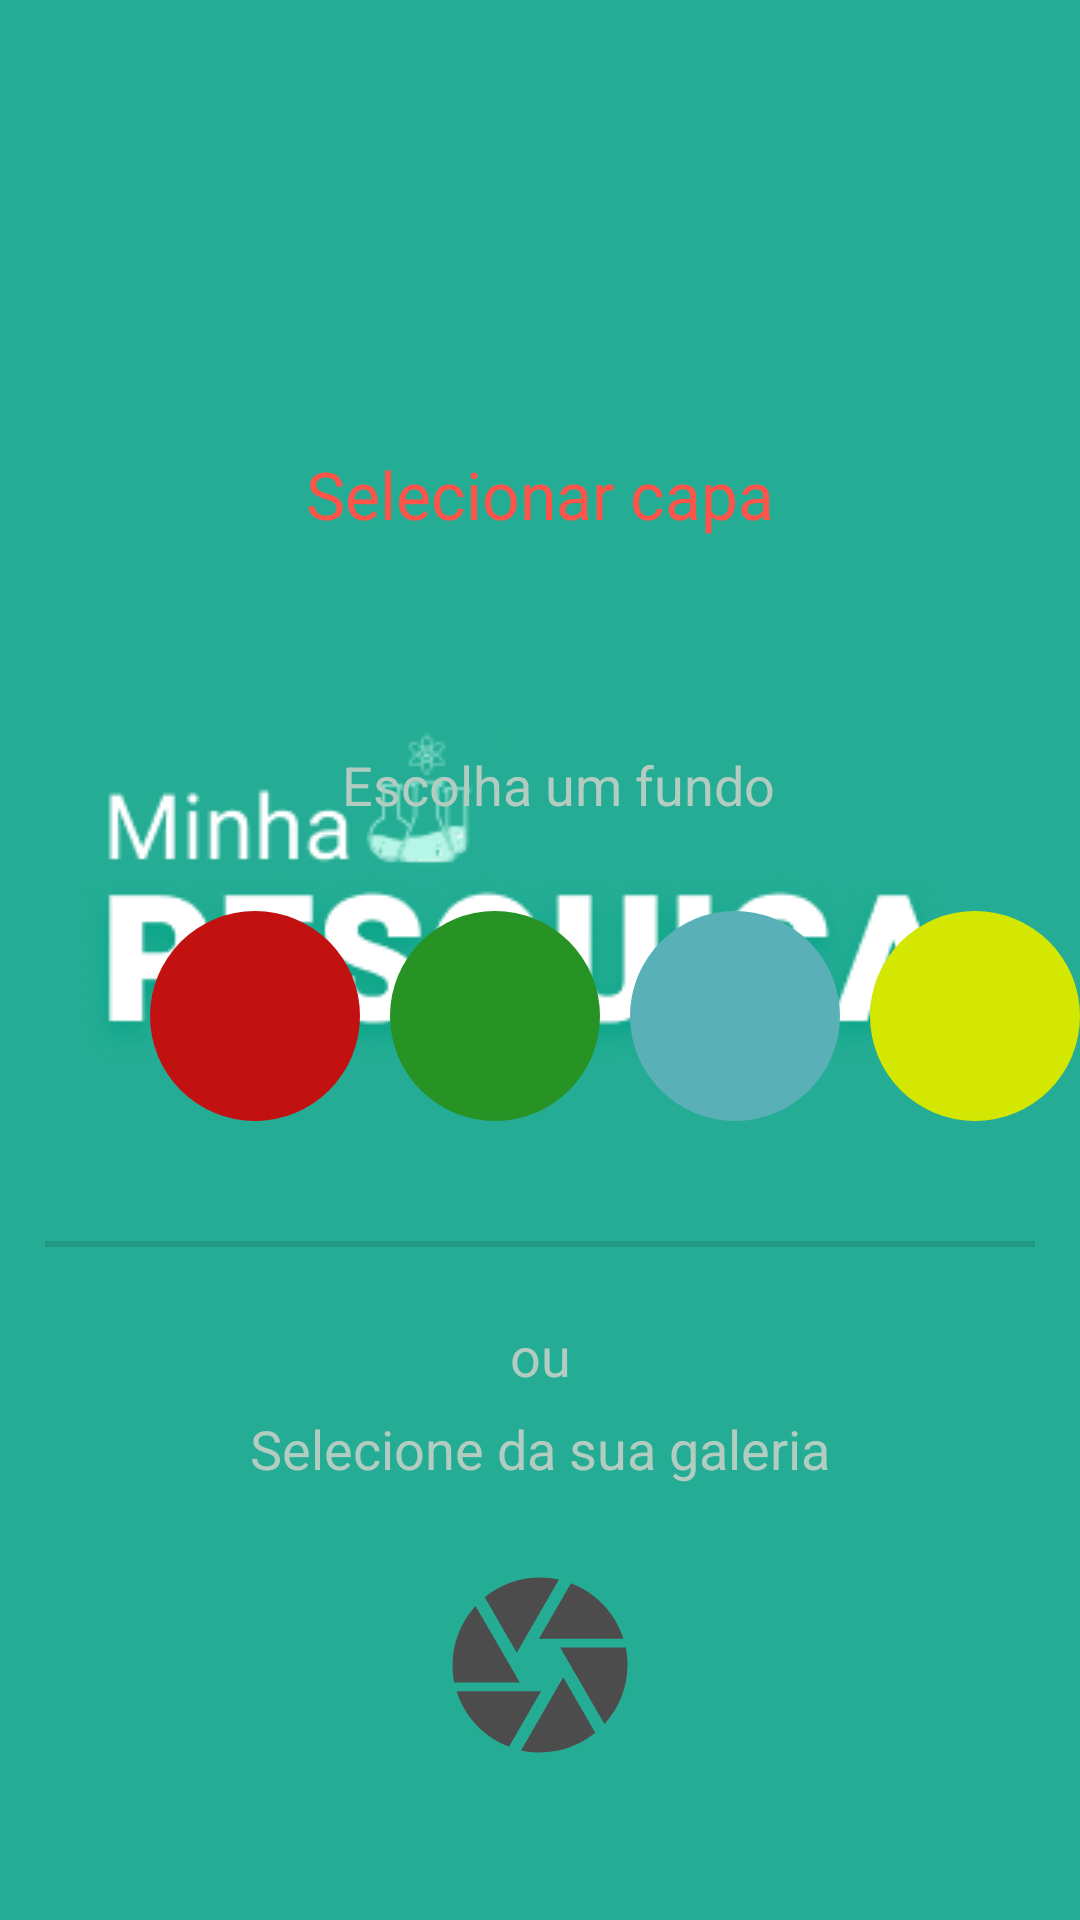

Screen size 1080 x 1920. Icon name, then its box in pixels as (x1, y1, x2, y2):
camera: (452, 1577, 628, 1753)
